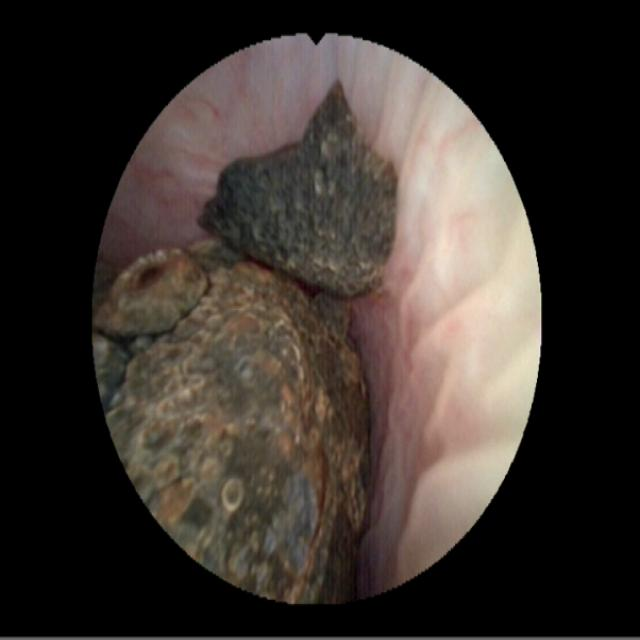stone: (94, 80, 394, 596)
